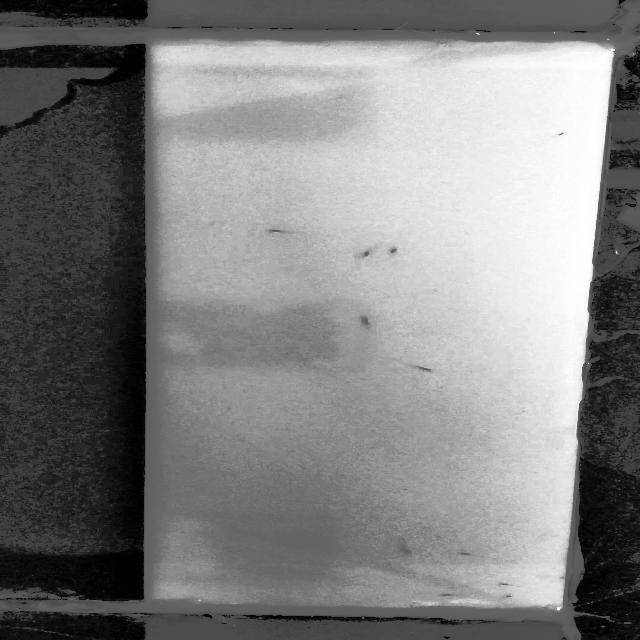shrimp: (258, 219, 298, 242), (352, 307, 381, 333), (402, 361, 438, 375), (351, 245, 373, 264), (394, 544, 424, 556), (455, 546, 477, 561), (550, 130, 578, 141), (496, 590, 520, 601), (438, 589, 463, 599), (384, 245, 404, 256), (490, 580, 517, 588)
